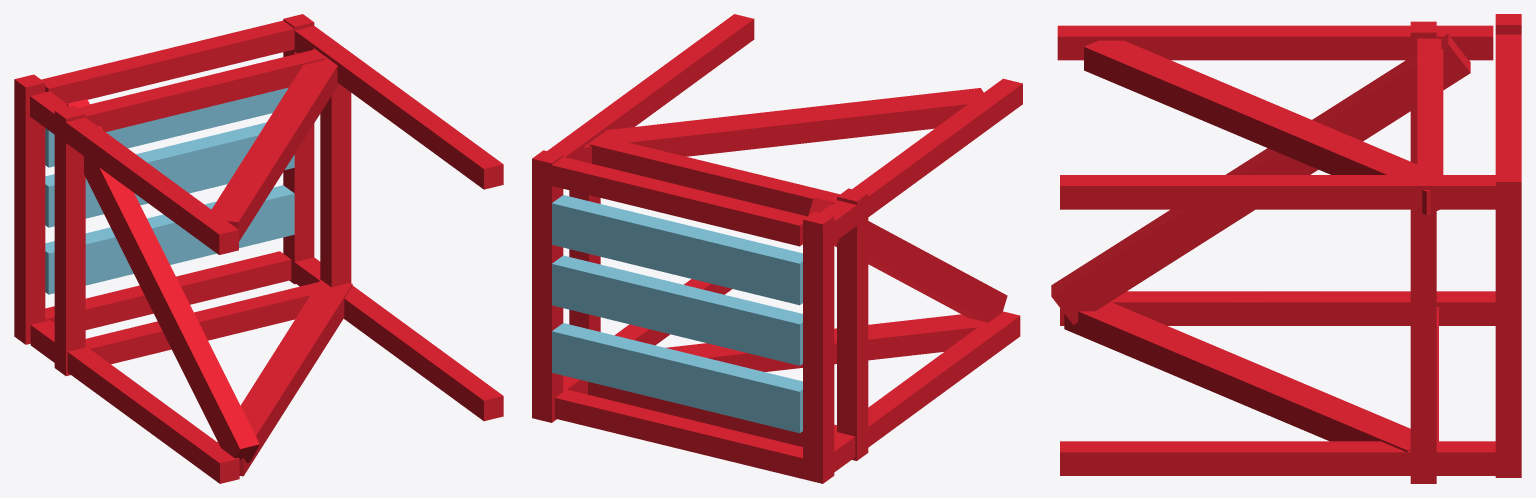
Rendered from tinker.obj.
The picture shows the model from 3 angles, left to right: view 1: azimuth 30°, elevation 25°; view 2: azimuth 150°, elevation 25°; view 3: azimuth 270°, elevation 25°; orthographic projection. The views are drawn at different scales.
Visible parts, largest first — view 1: group_0_15277357, group_0_8768998; view 2: group_0_15277357, group_0_8768998; view 3: group_0_15277357.
Boxes of the visible parts, x1,y1,x2,y2 form: group_0_15277357: [14, 14, 503, 483]; group_0_8768998: [45, 87, 294, 294]; group_0_15277357: [532, 14, 1022, 483]; group_0_8768998: [552, 195, 802, 433]; group_0_15277357: [1051, 14, 1521, 483].
Size of the model in its own units: 178 by 156 by 216.
